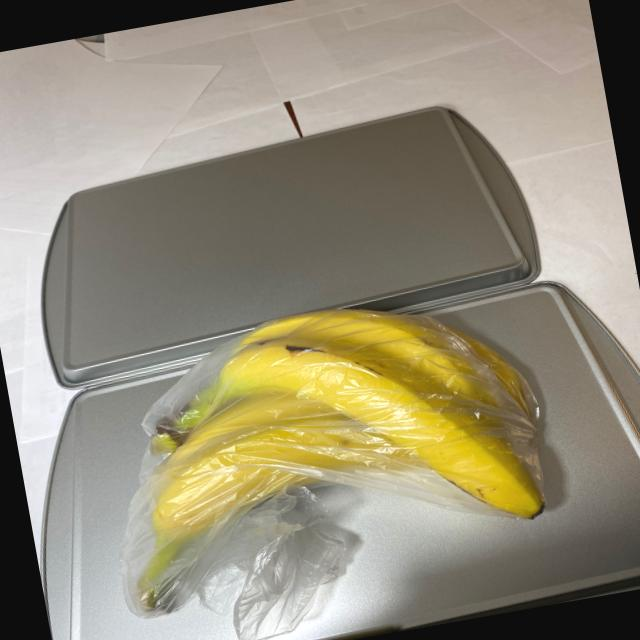banana: (62, 270, 572, 622)
